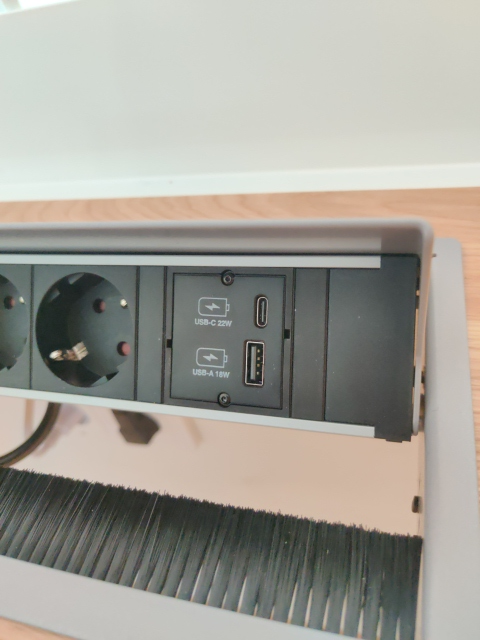USB: (242, 340, 265, 388)
USB-C: (254, 295, 269, 328)
